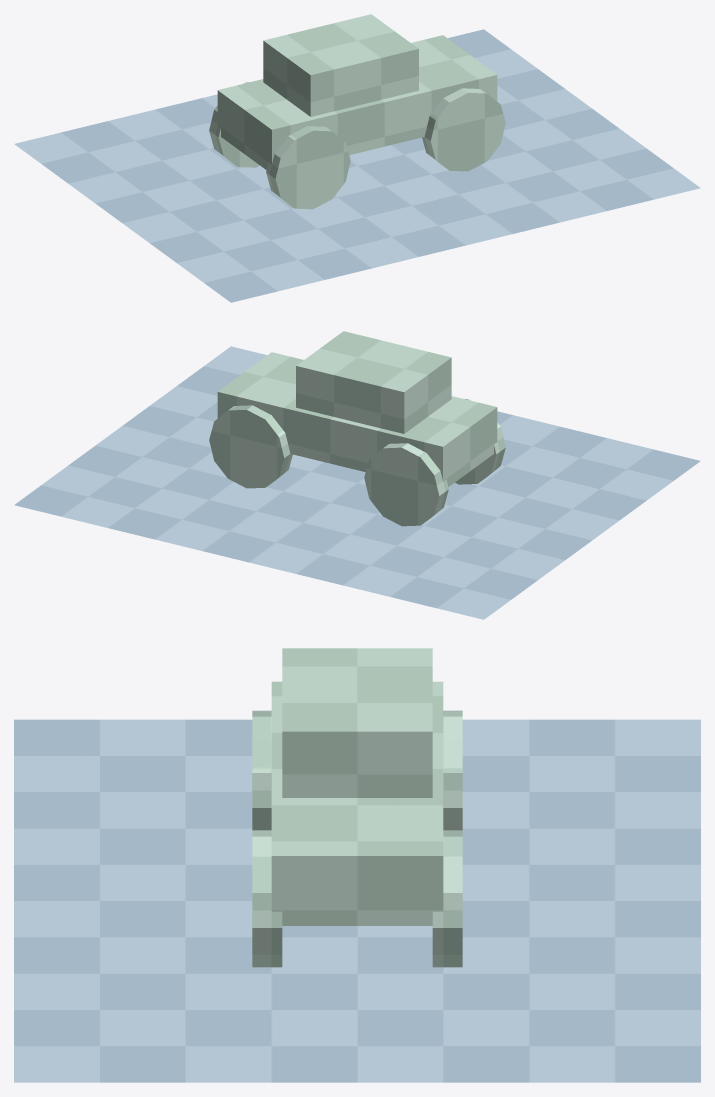
File: result.glb
3 renders of one model, top to bottom at view 1: azimuth 30°, elevation 25°; view 2: azimuth 150°, elevation 25°; view 3: azimuth 270°, elevation 25°, orthographic. The views are drawn at different scales.
Parts seen in each view (by area): view 1: Viewer baked procedural surfaces; view 2: Viewer baked procedural surfaces; view 3: Viewer baked procedural surfaces.
Part boxes in pixels (x1,y1,x2,y2): Viewer baked procedural surfaces: (14,14,700,302); Viewer baked procedural surfaces: (14,331,700,619); Viewer baked procedural surfaces: (14,648,700,1082).
Size of the model in its own units: 10 by 2.55 by 8.
2 materials, 2 textured.
